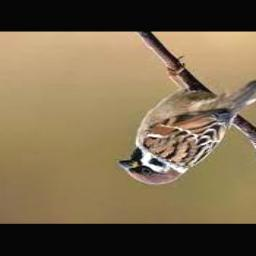Sparrow: (118, 61, 256, 185)
